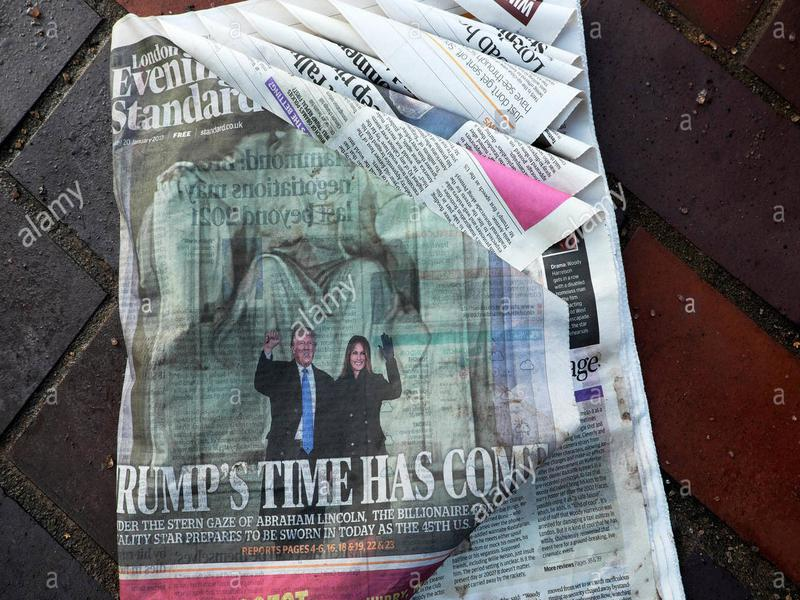paper: (100, 1, 697, 600)
